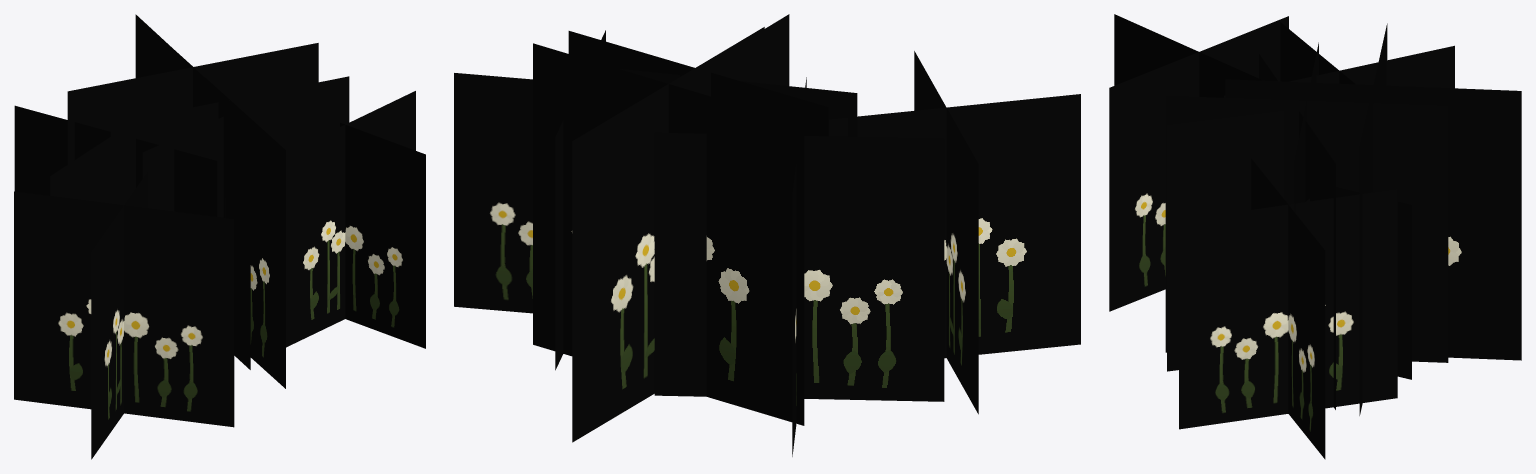
Rendered from prop_flora_daisy.glb.
3 renders of one model, left to right at view 1: azimuth 30°, elevation 25°; view 2: azimuth 150°, elevation 25°; view 3: azimuth 270°, elevation 25°, orthographic. The views are drawn at different scales.
Parts seen in each view (by area): view 1: daisy_4, daisy_0, daisy_6, daisy_2, daisy_3, daisy_5; view 2: daisy_2, daisy_3, daisy_4, daisy_0, daisy_6, daisy_5; view 3: daisy_0, daisy_2, daisy_6, daisy_4, daisy_5, daisy_3, daisy_1.
Boxes of the visible parts, left/top/right/bottom form: daisy_4: left=14, top=171, right=234, bottom=459; daisy_0: left=286, top=91, right=425, bottom=348; daisy_6: left=110, top=53, right=349, bottom=388; daisy_2: left=67, top=14, right=318, bottom=369; daisy_3: left=14, top=105, right=217, bottom=216; daisy_5: left=142, top=75, right=316, bottom=217; daisy_2: left=533, top=27, right=804, bottom=442; daisy_3: left=654, top=77, right=944, bottom=456; daisy_4: left=828, top=51, right=1080, bottom=414; daisy_0: left=454, top=30, right=605, bottom=370; daisy_6: left=568, top=14, right=828, bottom=136; daisy_5: left=618, top=68, right=857, bottom=136; daisy_0: left=1179, top=159, right=1397, bottom=459; daisy_2: left=1225, top=23, right=1521, bottom=415; daisy_6: left=1165, top=42, right=1448, bottom=362; daisy_4: left=1109, top=14, right=1288, bottom=311; daisy_5: left=1167, top=54, right=1335, bottom=409; daisy_3: left=1224, top=22, right=1454, bottom=97; daisy_1: left=1306, top=187, right=1411, bottom=379.
Bounding box in the file's own units: 0.4939 × 0.2796 × 0.3874.
1 material, 1 textured.
